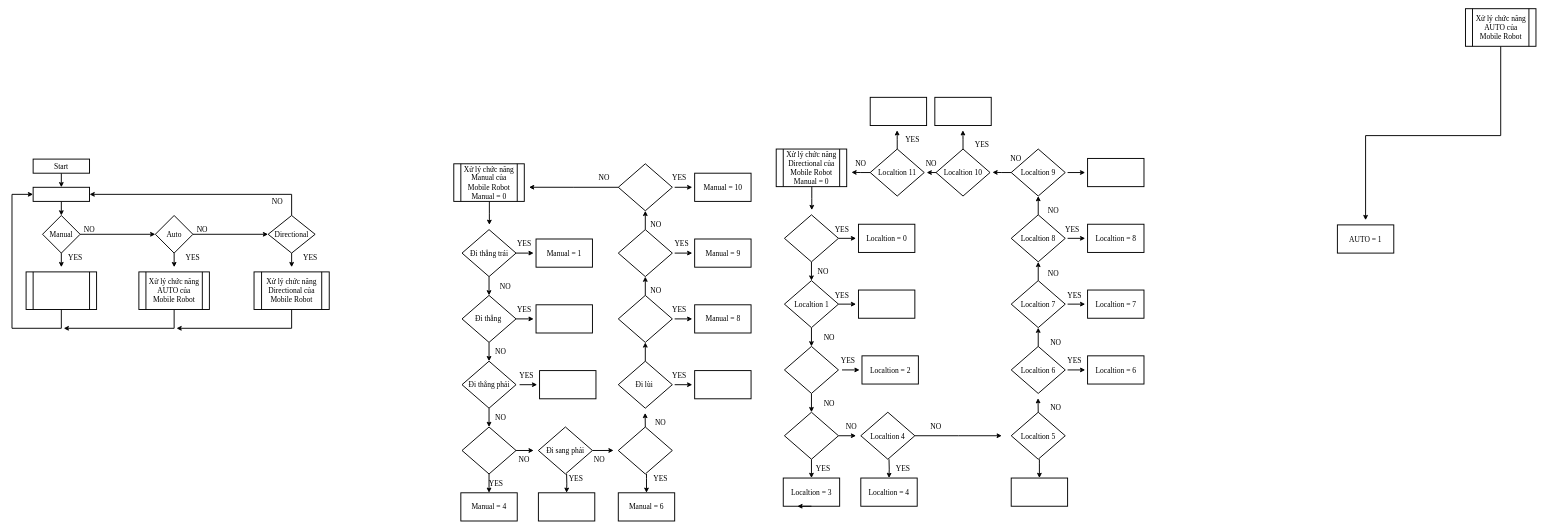
Some shapes in this 1544 by 529 pixel diagram are drawn without their labels. The centre of each missing label's shape, as x and y in pixels:
"HOME" belongs at point (61, 194).
"Localtion 0" belongs at point (811, 238).
"Localtion 2" belongs at point (811, 370).
"Localtion 3" belongs at point (811, 435).
"Localtion = 1" belongs at point (886, 303).
"Localtion = 10" belongs at point (962, 111).
"Localtion = 11" belongs at point (898, 111).
"Localtion = 5" belongs at point (1039, 491).
"Localtion = 9" belongs at point (1115, 172).
"Manual = 2" belongs at point (564, 318).
"Manual = 3" belongs at point (567, 384).
"Manual = 5" belongs at point (566, 506).
"Manual = 7" belongs at point (722, 384).
"Xoay phải" belongs at point (645, 187).
"Xoay trái" belongs at point (645, 253).
"Xử lý chức năng Manual của Mobile Robot" belongs at point (61, 290).
"Đi lùi phải" belongs at point (645, 319).
"Đi lùi trái" belongs at point (645, 450).
"Đi sang trái" belongs at point (488, 450).
